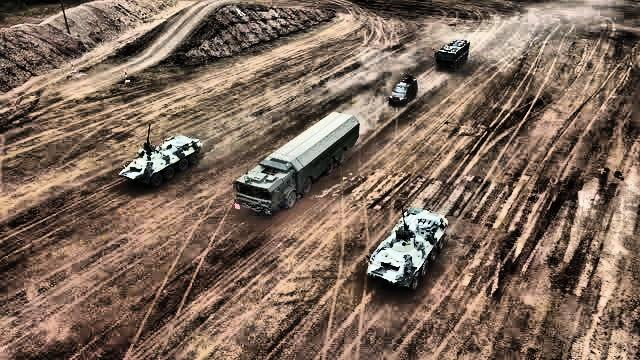military-vehicle: (235, 111, 359, 220), (366, 206, 448, 292), (118, 134, 202, 188)
